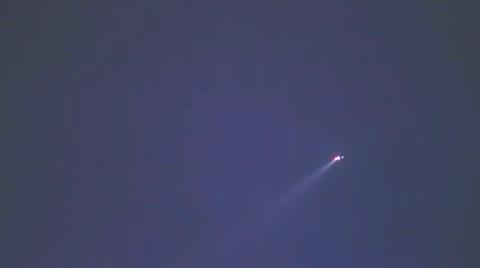Plane: (286, 145, 360, 191)
